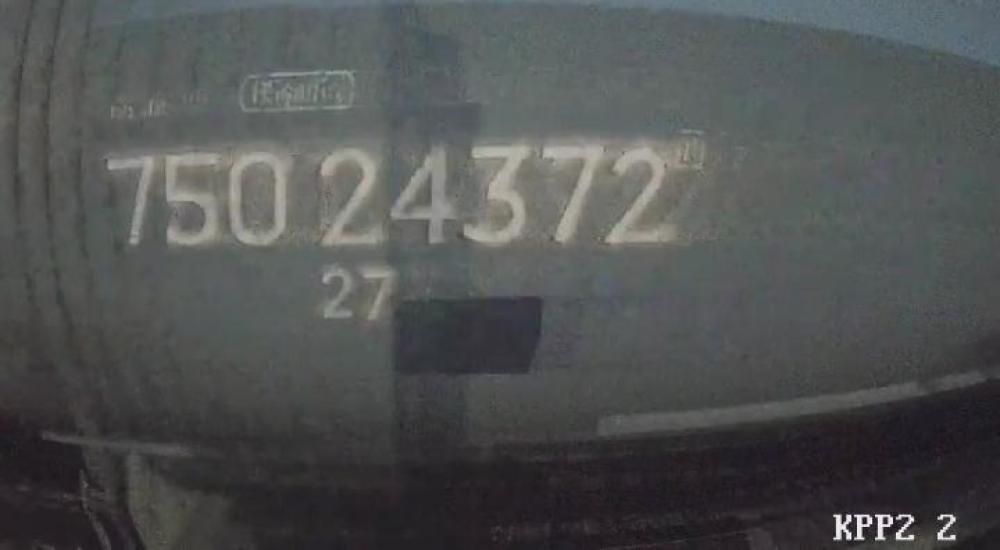Wagon-number: (99, 136, 676, 249)
